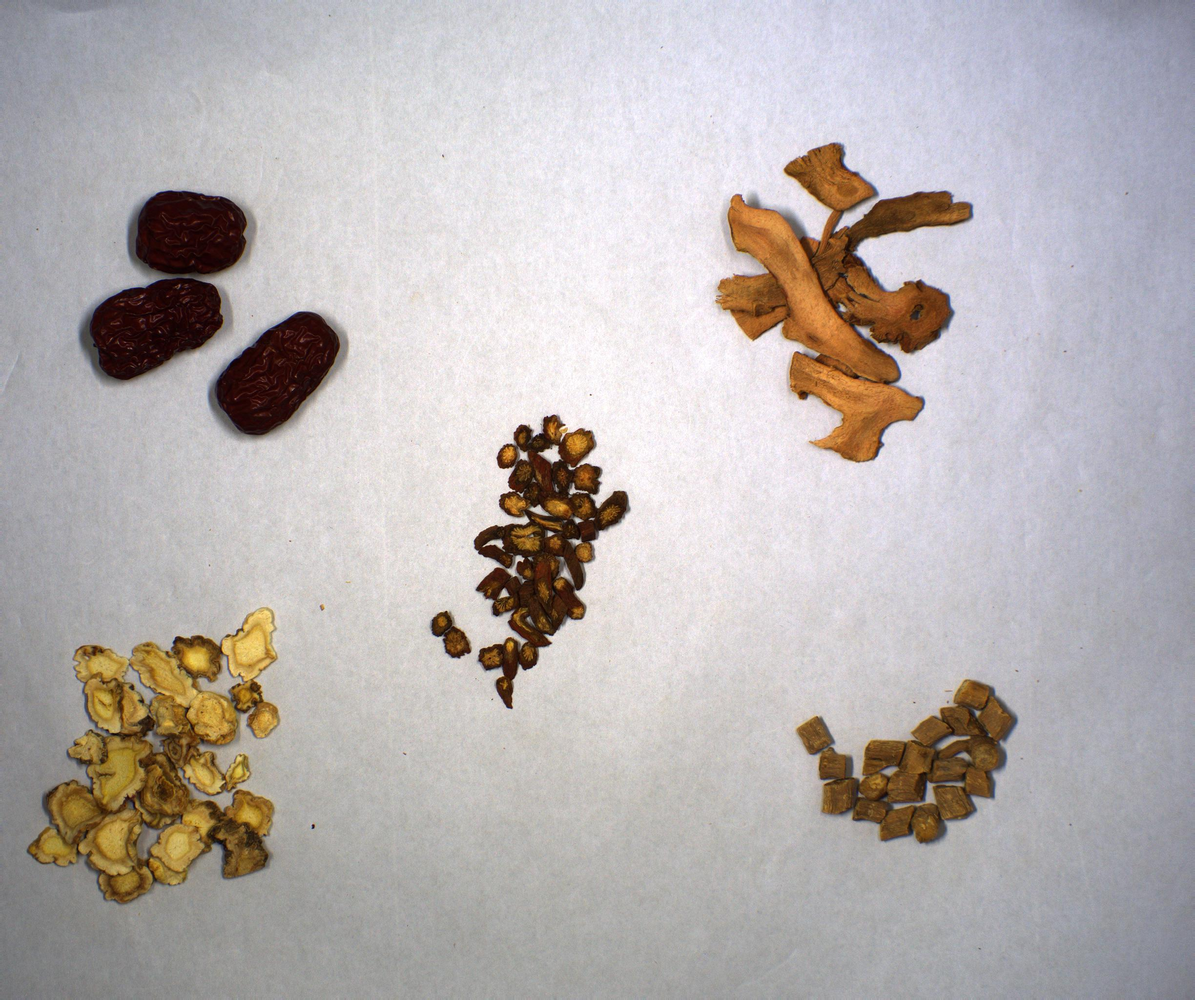danshen: (429, 415, 637, 714)
dazao: (79, 189, 352, 442)
gaoliangjiang: (713, 143, 978, 469)
jiegeng: (25, 606, 284, 908)
niuxi: (795, 677, 1020, 850)
